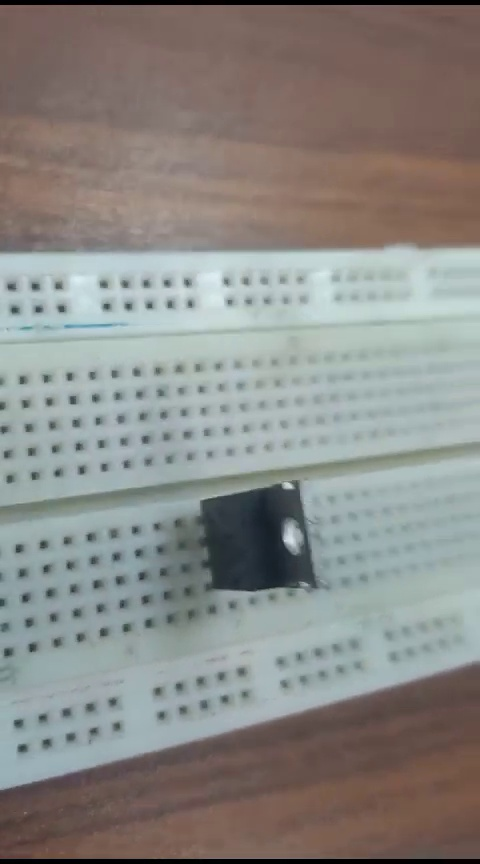voltage regulator: (189, 481, 341, 620)
